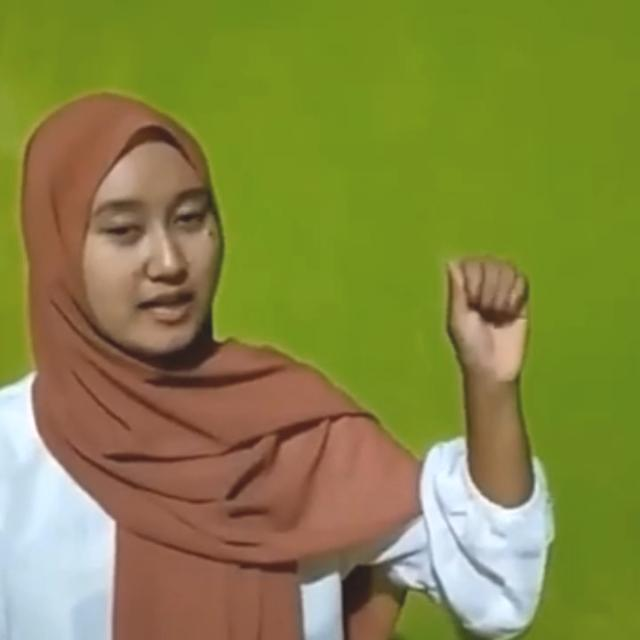B: (446, 255, 528, 385)
